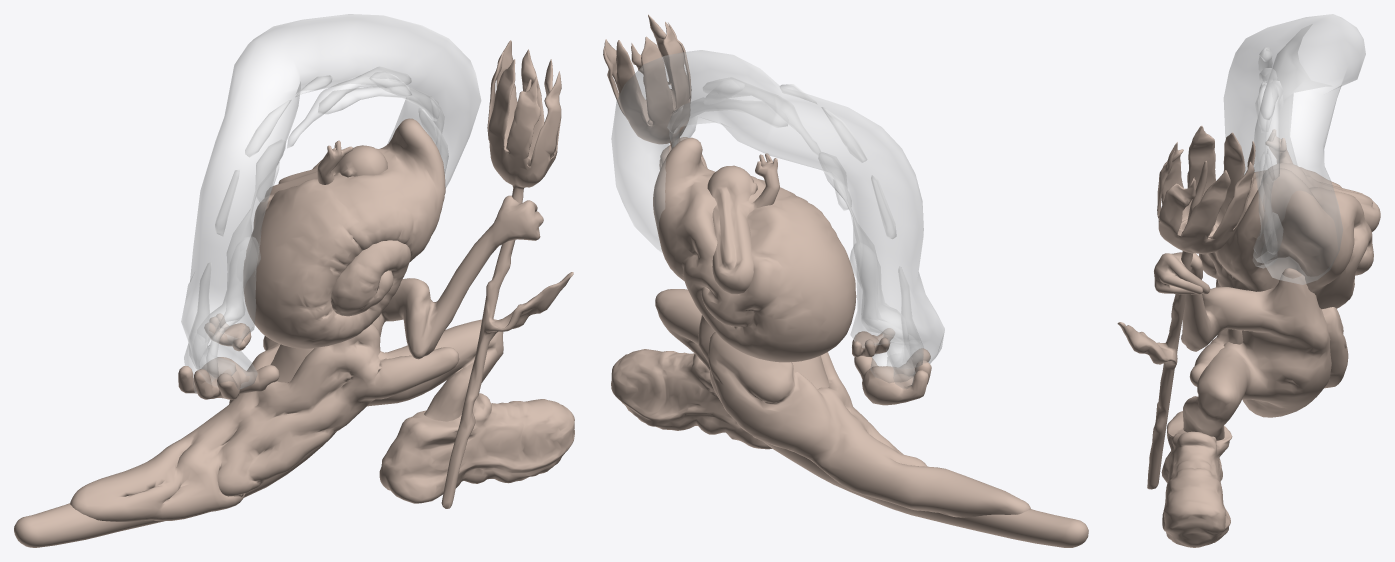
File: Downshifting.glb
3 views of the same model, side by side, from view 1: azimuth 30°, elevation 25°; view 2: azimuth 150°, elevation 25°; view 3: azimuth 270°, elevation 25° (orthographic). The views are drawn at different scales.
Visible parts, largest first — view 1: PM3D_Sphere3D1_4.002, PM3D_Sphere3D1_3, PM3D_Sphere3D1_5.002, PM3D_Sphere3D1_2.002; view 2: PM3D_Sphere3D1_4.002, PM3D_Sphere3D1_3, PM3D_Sphere3D1_2.002, PM3D_Sphere3D1_5.002; view 3: PM3D_Sphere3D1_4.002, PM3D_Sphere3D1_3, PM3D_Sphere3D1_5.002, PM3D_Sphere3D1_2.002.
Boxes of the visible parts, x1=… form: PM3D_Sphere3D1_4.002: x1=14, y1=118, x2=574, y2=547; PM3D_Sphere3D1_3: x1=181, y1=14, x2=481, y2=393; PM3D_Sphere3D1_5.002: x1=441, y1=40, x2=573, y2=508; PM3D_Sphere3D1_2.002: x1=178, y1=140, x2=387, y2=399; PM3D_Sphere3D1_4.002: x1=611, y1=137, x2=1088, y2=547; PM3D_Sphere3D1_3: x1=611, y1=50, x2=944, y2=388; PM3D_Sphere3D1_2.002: x1=707, y1=153, x2=931, y2=405; PM3D_Sphere3D1_5.002: x1=603, y1=14, x2=691, y2=148; PM3D_Sphere3D1_4.002: x1=1154, y1=167, x2=1373, y2=547; PM3D_Sphere3D1_3: x1=1223, y1=14, x2=1365, y2=284; PM3D_Sphere3D1_5.002: x1=1117, y1=125, x2=1255, y2=489; PM3D_Sphere3D1_2.002: x1=1261, y1=129, x2=1380, y2=231.
Size of the model in its own units: 3.19 by 2.59 by 1.4.
